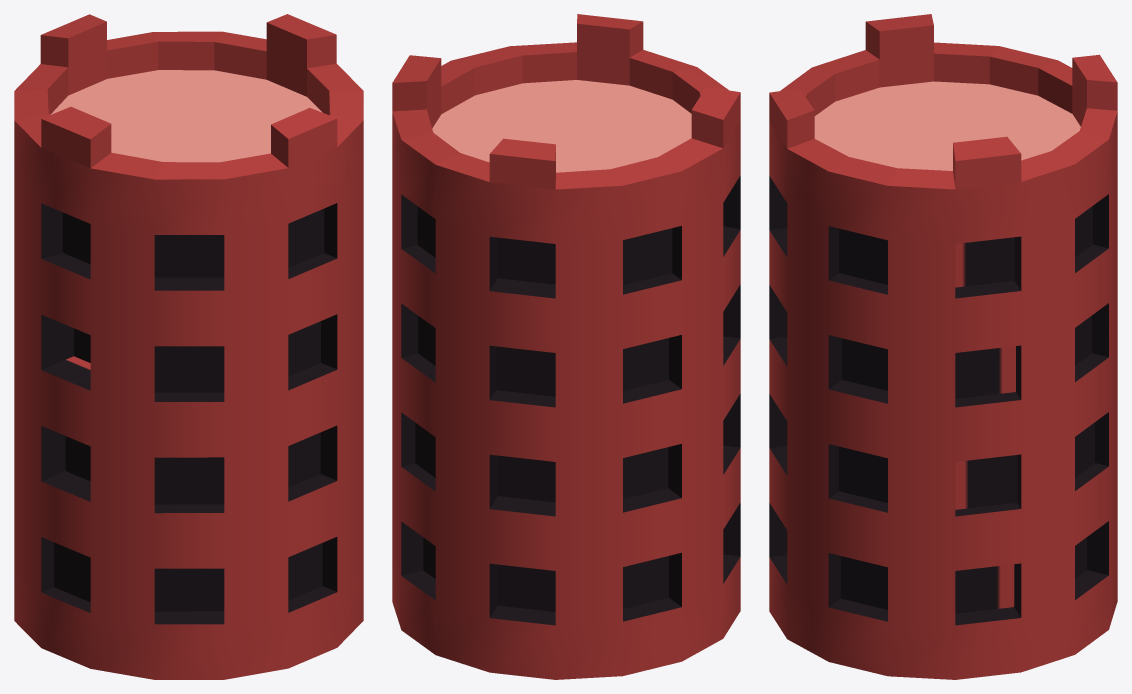
Rendered from Tower BigT.fbx.
3 views of the same model, side by side, from view 1: azimuth 30°, elevation 25°; view 2: azimuth 150°, elevation 25°; view 3: azimuth 270°, elevation 25° (orthographic). The views are drawn at different scales.
Visible parts, largest first — view 1: Tower_Big; view 2: Tower_Big; view 3: Tower_Big.
Boxes of the visible parts, box(x1,y1,x2,y2) form: Tower_Big: box(14, 14, 363, 679); Tower_Big: box(392, 14, 740, 679); Tower_Big: box(769, 14, 1117, 679).
Size of the model in its own units: 120 by 198 by 120.
